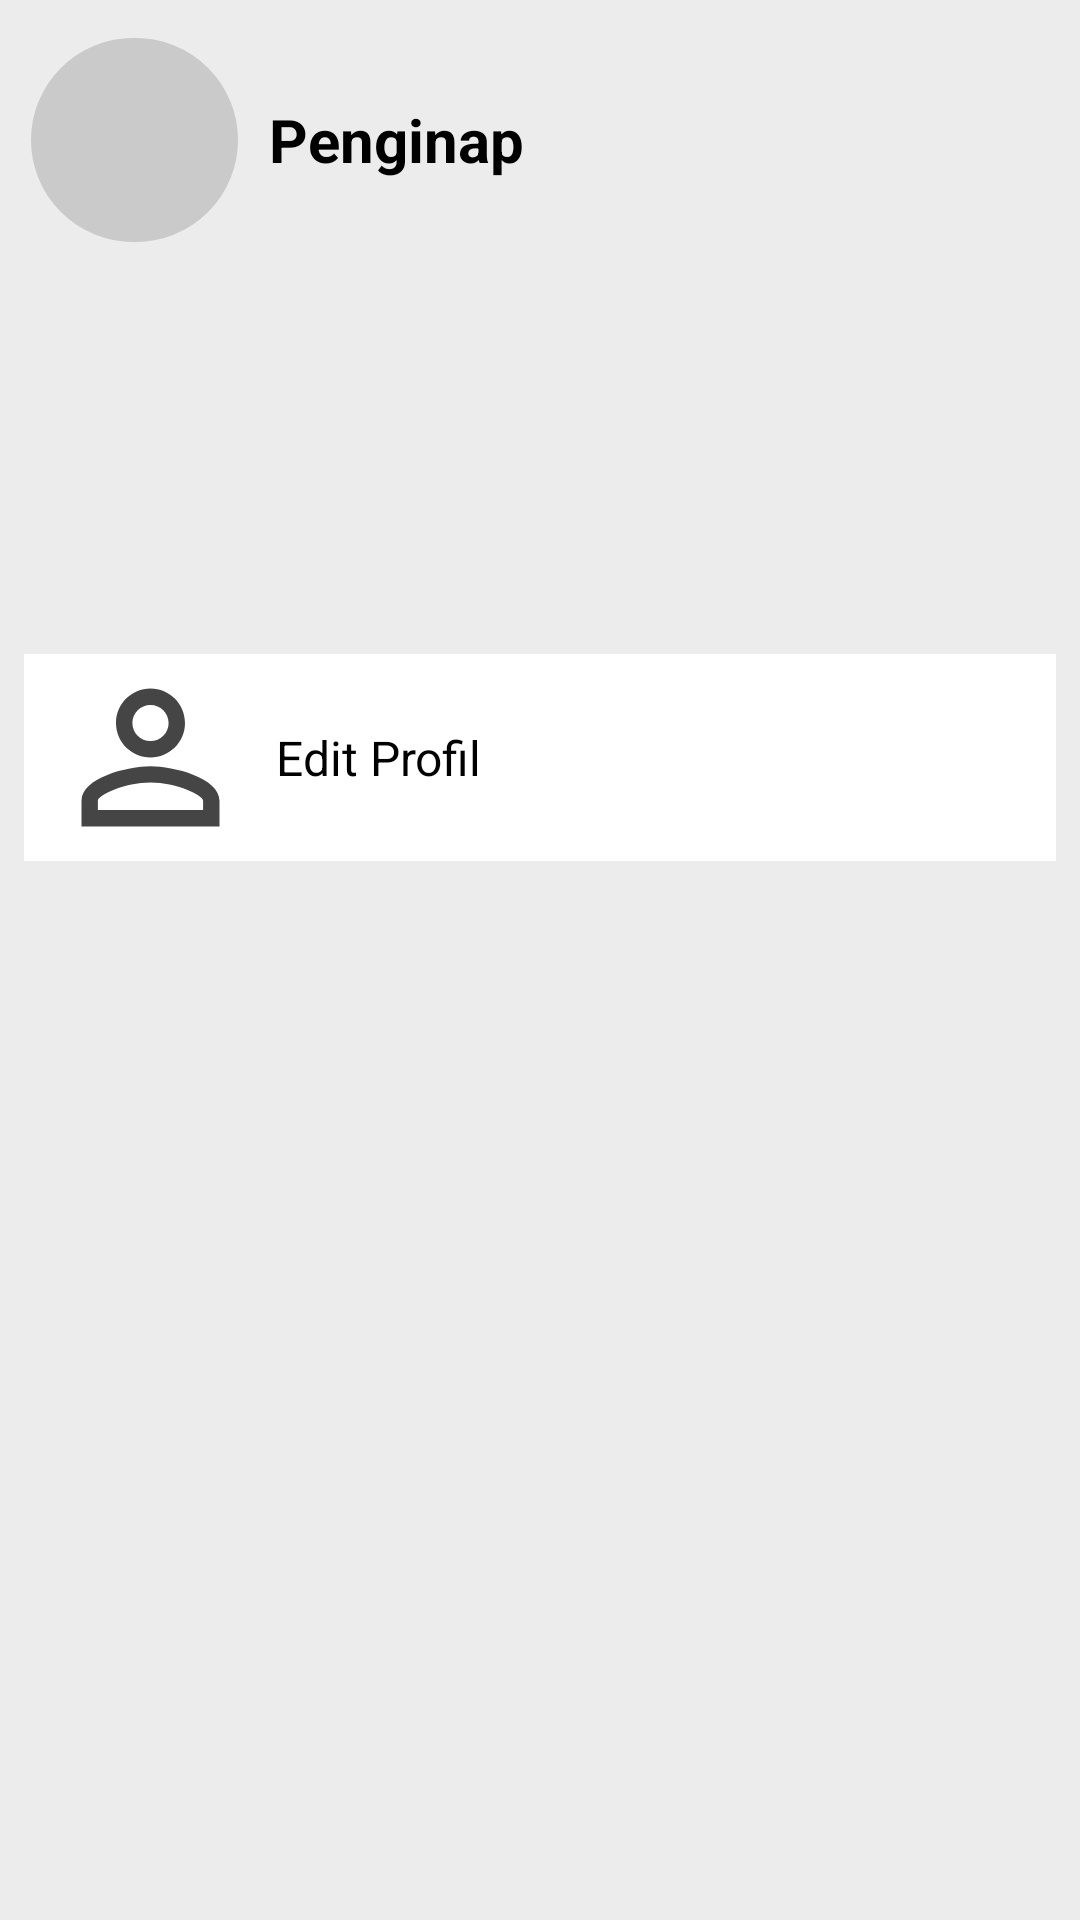

Where icons sit on this 1080px×1920px app screen, as (x1, y1, x2, y2):
person: (24, 654, 276, 861)
